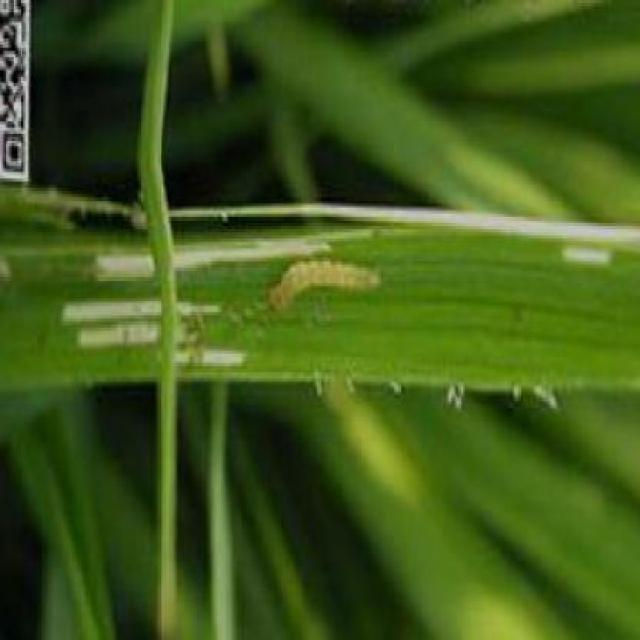leaf-folder: (268, 246, 387, 323)
